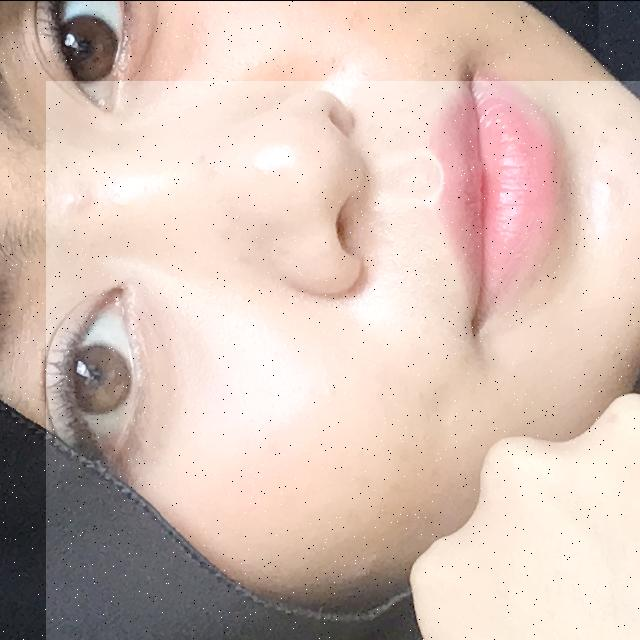telpon: (46, 80, 640, 640)
